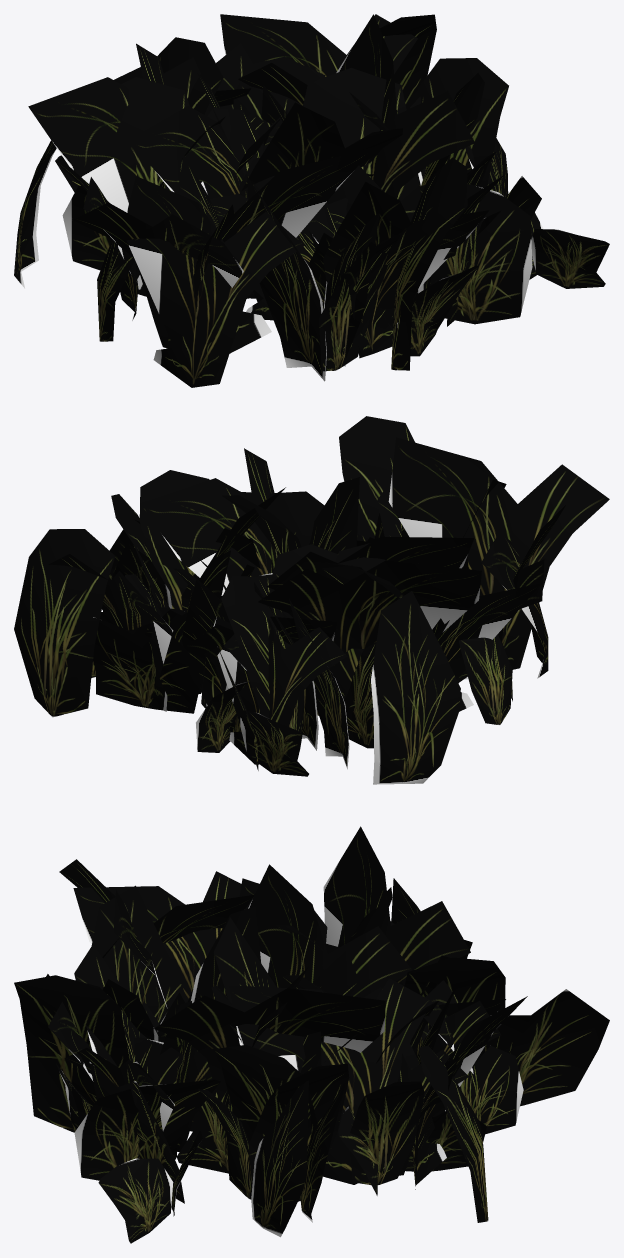
The model's file is grass3 1.fbx.
The picture shows the model from 3 angles, top to bottom: view 1: azimuth 30°, elevation 25°; view 2: azimuth 150°, elevation 25°; view 3: azimuth 270°, elevation 25°; orthographic projection. The views are drawn at different scales.
Parts seen in each view (by area): view 1: grasspatch3; view 2: grasspatch3; view 3: grasspatch3.
Part boxes in pixels (x1=…): grasspatch3: x1=14, y1=14, x2=609, y2=387; grasspatch3: x1=14, y1=416, x2=609, y2=784; grasspatch3: x1=14, y1=826, x2=609, y2=1243.
Size of the model in its own units: 288 by 129 by 326.
